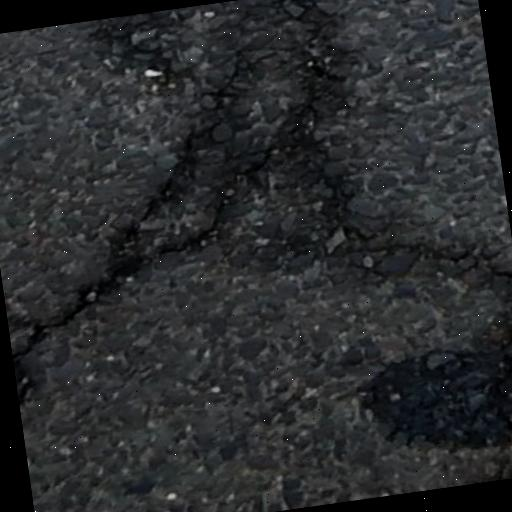spalling: (10, 60, 280, 375), (369, 233, 512, 288)
